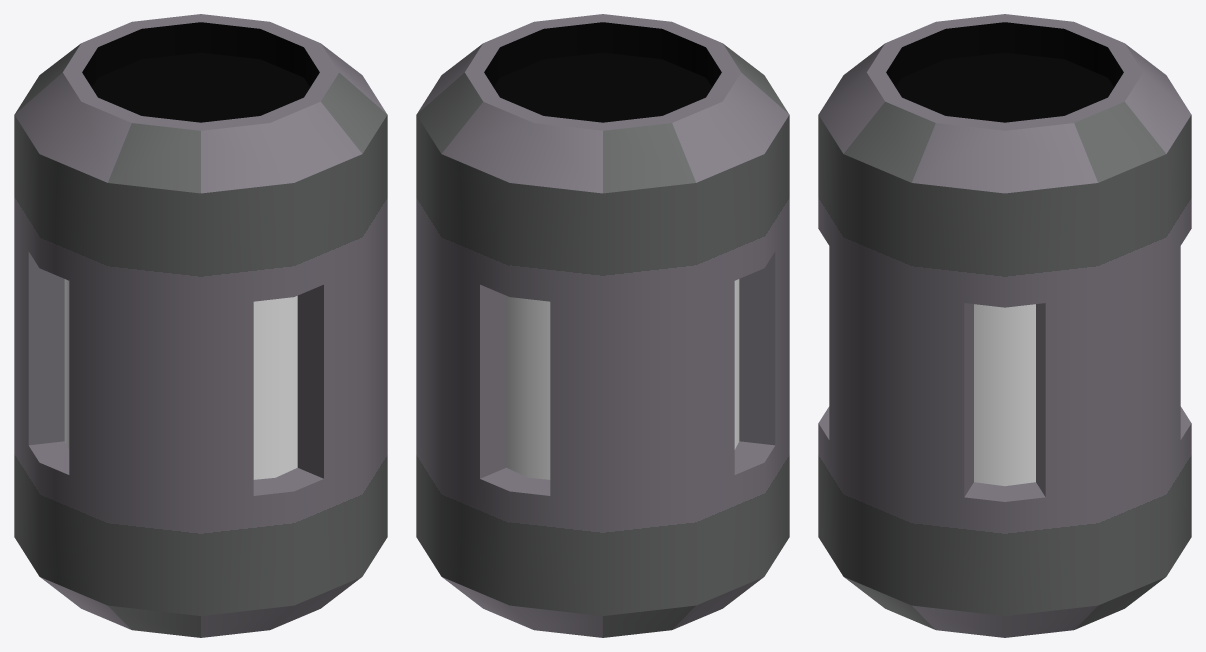
File: BatteryProto.fbx
3 views of the same model, side by side, from view 1: azimuth 30°, elevation 25°; view 2: azimuth 150°, elevation 25°; view 3: azimuth 270°, elevation 25° (orthographic).
Visible parts, largest first — view 1: BatteryProto; view 2: BatteryProto; view 3: BatteryProto.
Part boxes in pixels (left/top/right/bottom): BatteryProto: left=14, top=14, right=387, bottom=637; BatteryProto: left=416, top=14, right=789, bottom=637; BatteryProto: left=818, top=14, right=1191, bottom=637.
Size of the model in its own units: 20 by 30 by 20.
